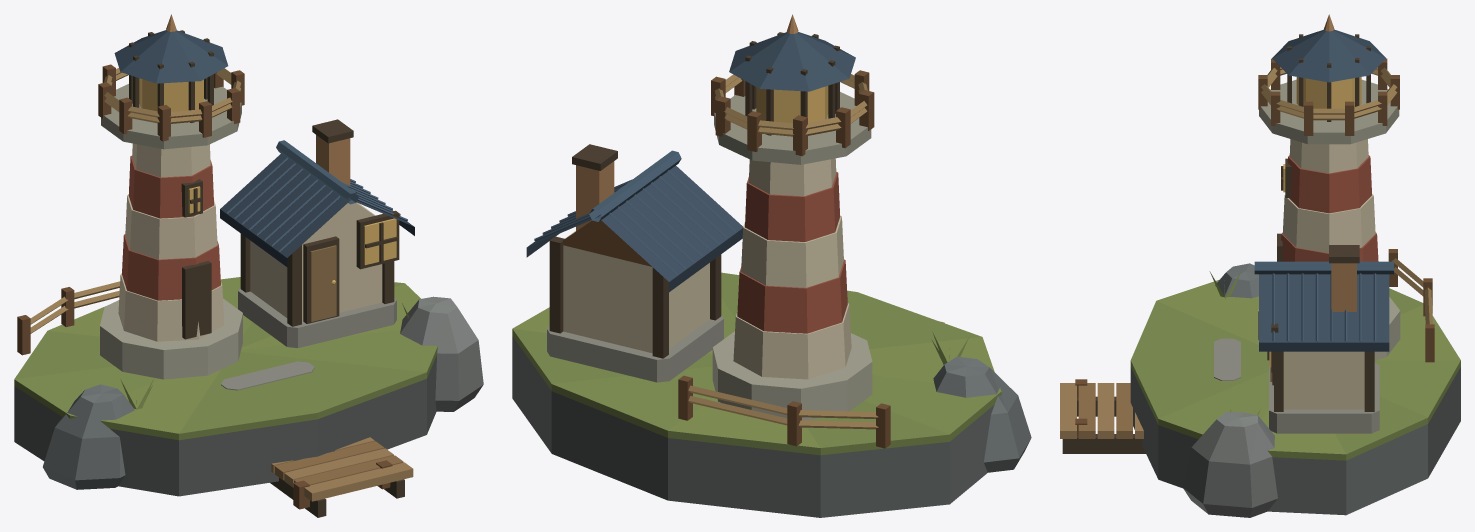
The picture shows the model from 3 angles, left to right: view 1: azimuth 30°, elevation 25°; view 2: azimuth 150°, elevation 25°; view 3: azimuth 270°, elevation 25°; orthographic projection. The views are drawn at different scales.
Parts seen in each view (by area): view 1: S02_灯塔海角; view 2: S02_灯塔海角; view 3: S02_灯塔海角.
Boxes of the visible parts, x1,y1,x2,y2 form: S02_灯塔海角: (14,14,483,517); S02_灯塔海角: (512,14,1031,517); S02_灯塔海角: (1060,14,1460,517).
Size of the model in its own units: 4.79 by 4.41 by 4.06.
